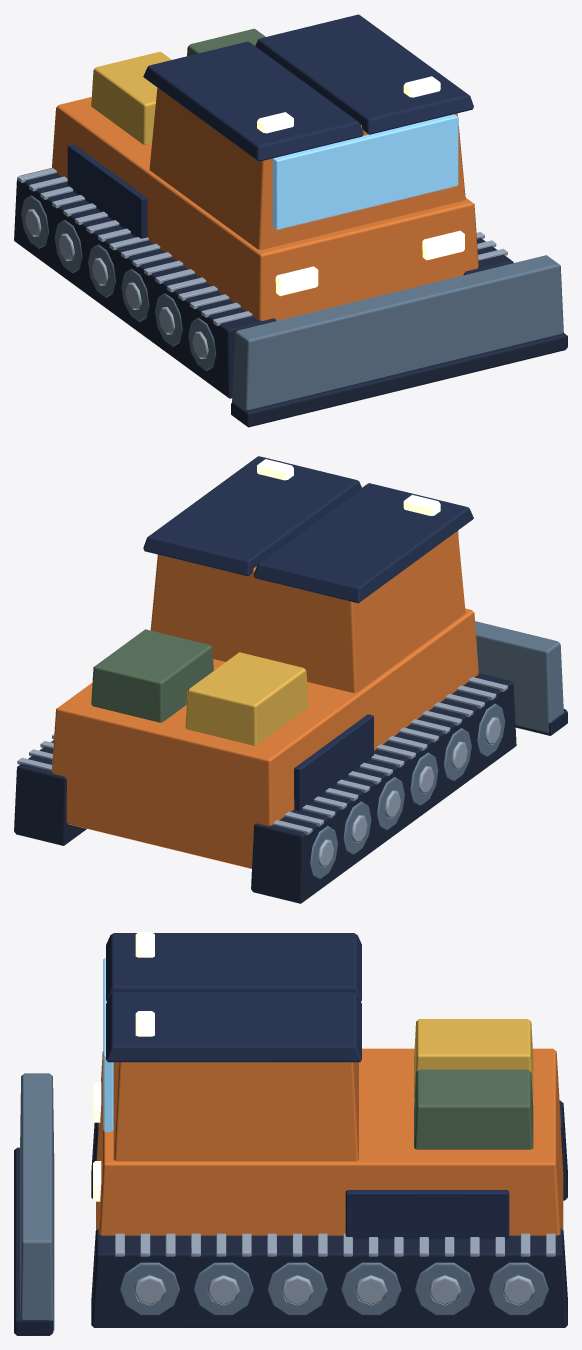
The model's file is snowcat.glb.
The picture shows the model from 3 angles, top to bottom: view 1: azimuth 30°, elevation 25°; view 2: azimuth 150°, elevation 25°; view 3: azimuth 270°, elevation 25°; orthographic projection. The views are drawn at different scales.
Visible parts, largest first — view 1: snowcat; view 2: snowcat; view 3: snowcat.
Part boxes in pixels (box(x1,y1,x2,y2)): snowcat: box(14, 14, 567, 427); snowcat: box(14, 456, 567, 903); snowcat: box(14, 932, 567, 1335).
Size of the model in its own units: 3.56 by 2.62 by 4.81.
